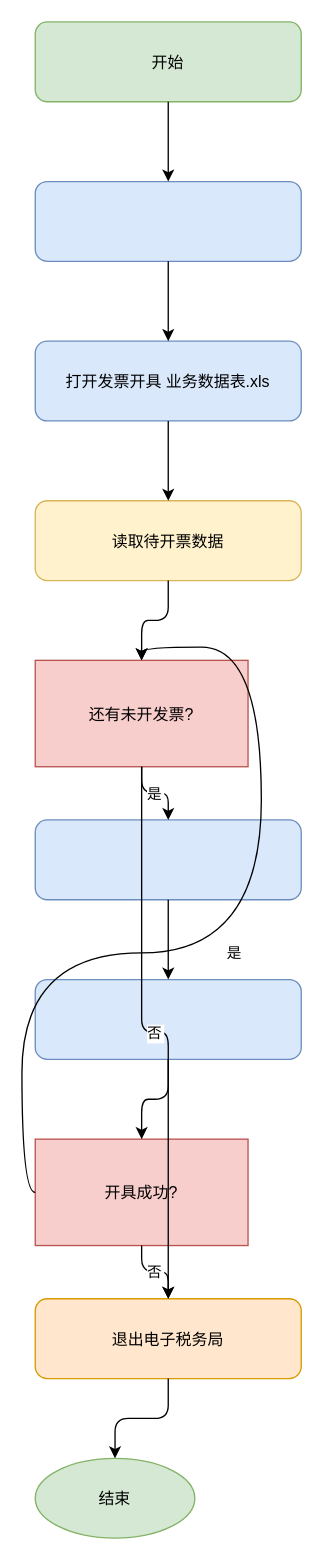
The diagram is 323 pixels wide and 1560 high, and some of its shapes have lost their labels. The box of each missing label's shape, as (x1, y1, x2, y2) in pixels:
填写发票信息 购货方/金额/税率: (34, 819, 301, 900)
提交开具: (34, 978, 301, 1059)
登录电子税务局: (34, 180, 301, 261)
